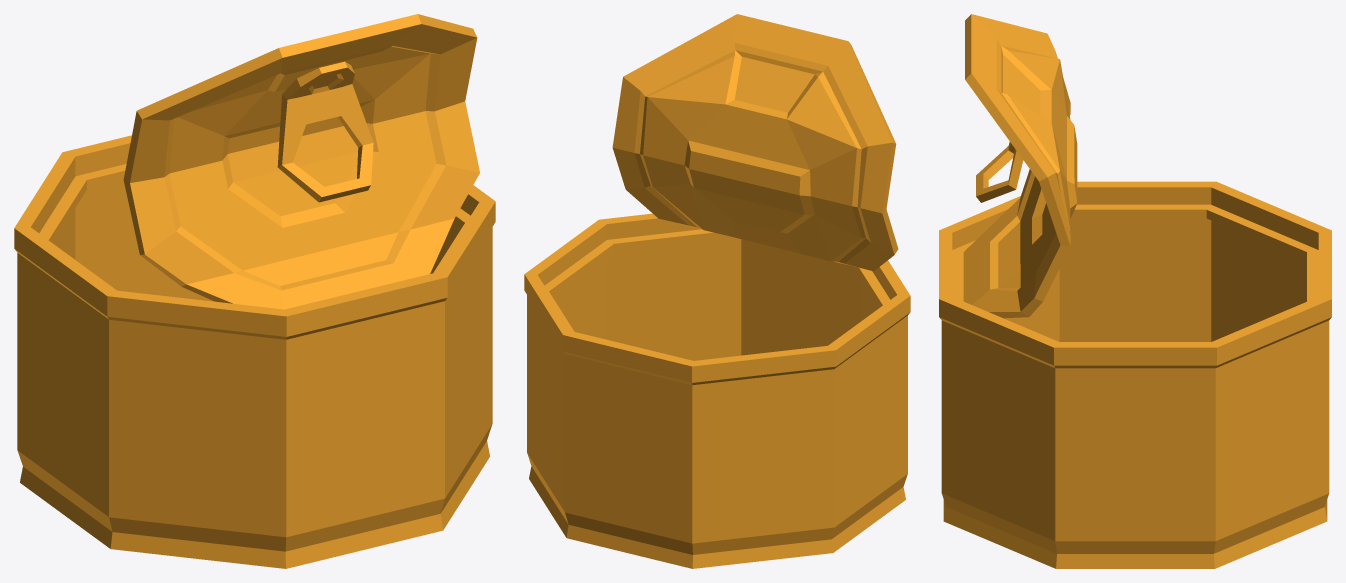
File: SM_Can_Catfood_Small_Empty.fbx
3 renders of one model, left to right at view 1: azimuth 30°, elevation 25°; view 2: azimuth 150°, elevation 25°; view 3: azimuth 270°, elevation 25°, orthographic. The views are drawn at different scales.
Visible parts, largest first — view 1: SM_Can_Catfood_Small_Empty; view 2: SM_Can_Catfood_Small_Empty; view 3: SM_Can_Catfood_Small_Empty.
Boxes of the visible parts, x1,y1,x2,y2 form: SM_Can_Catfood_Small_Empty: [14, 14, 495, 568]; SM_Can_Catfood_Small_Empty: [524, 14, 910, 568]; SM_Can_Catfood_Small_Empty: [939, 14, 1331, 568].
Size of the model in its own units: 0.0823 by 0.1026 by 0.0823.
